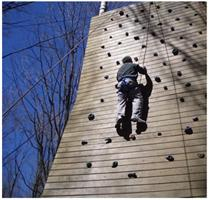person: (116, 56, 148, 128)
